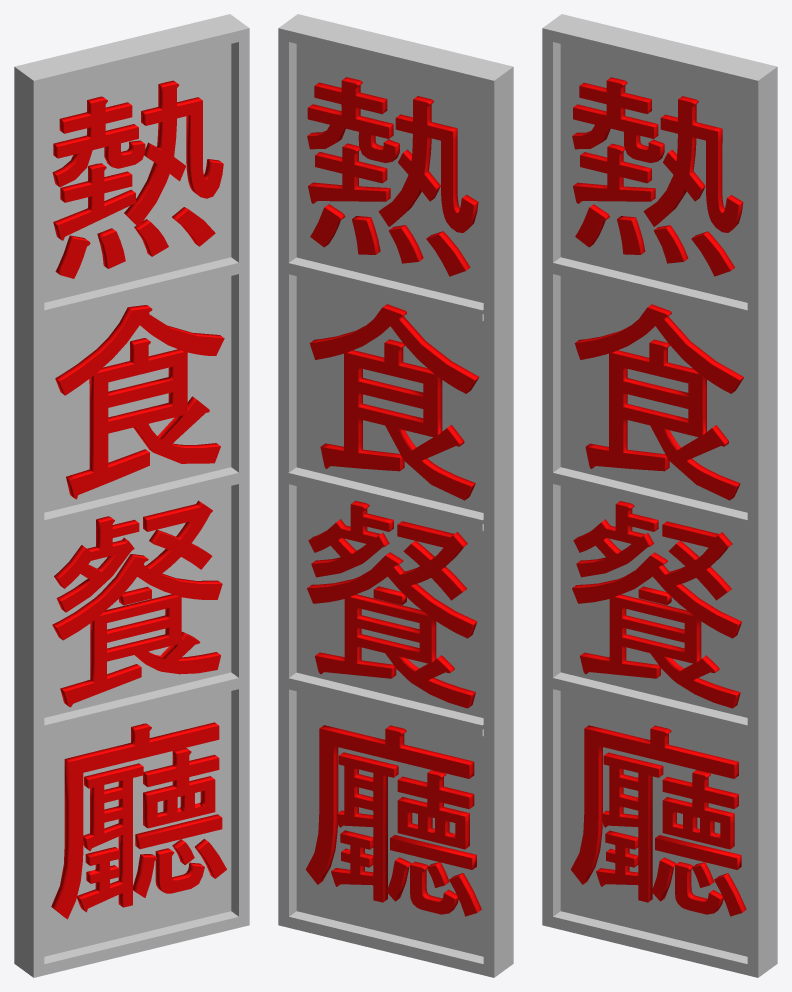
The model's file is Sign7.fbx.
3 views of the same model, side by side, from view 1: azimuth 30°, elevation 25°; view 2: azimuth 150°, elevation 25°; view 3: azimuth 330°, elevation 25° (orthographic).
Visible parts, largest first — view 1: Cube.004; view 2: Cube.004; view 3: Cube.004.
Part boxes in pixels (x1=…): Cube.004: x1=14, y1=14, x2=249, y2=977; Cube.004: x1=278, y1=14, x2=513, y2=977; Cube.004: x1=542, y1=14, x2=777, y2=977.
Bounding box in the file's own units: 10.54 × 41.87 × 1.66.
